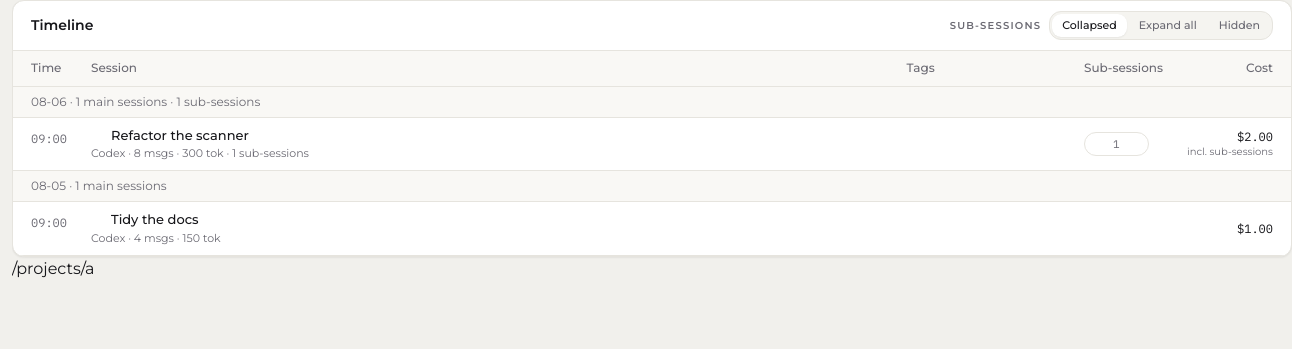
Test: ProjectTimeline › expands one row at a time in Collapsed mode without navigating
Step 1. Click the button "1" → (1116, 144), box 1084,132 -> 1149,156
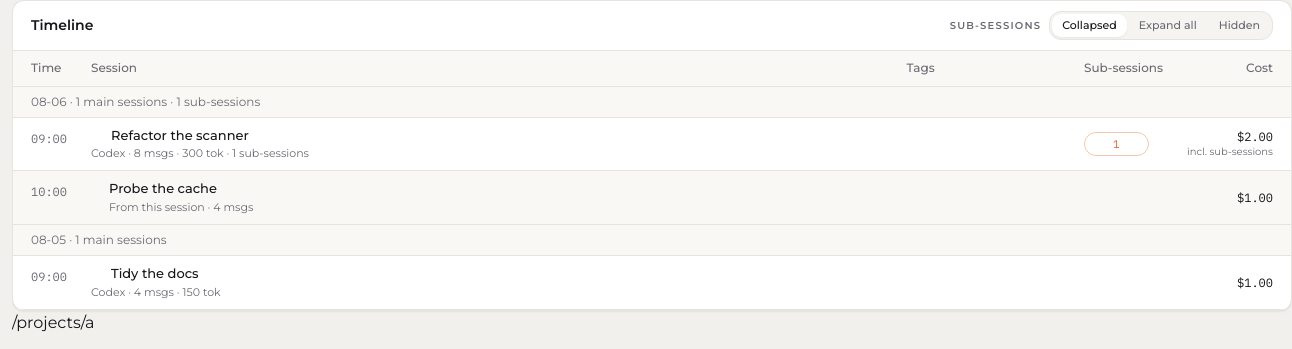
Expected: the text with test id "location" reads "/projects/a", 12,313 -> 94,332
Now the button "Probe the cache From this session · 4 msgs" is shown, box 109,180 -> 883,215
